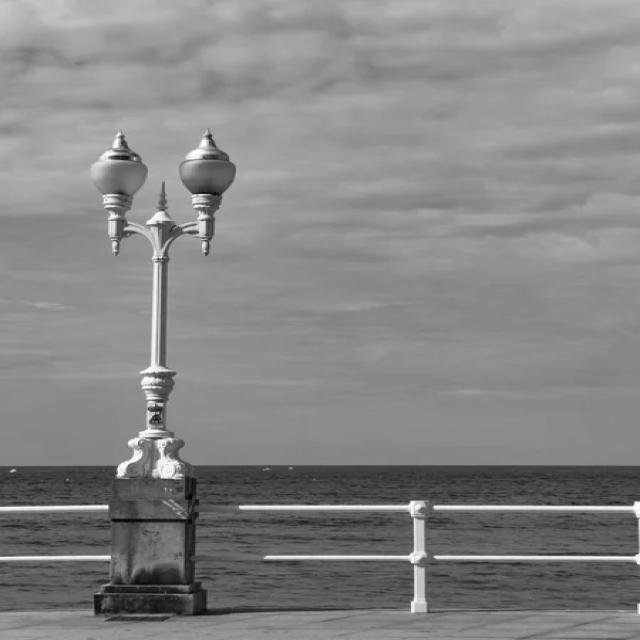Pole: (91, 131, 235, 616)
